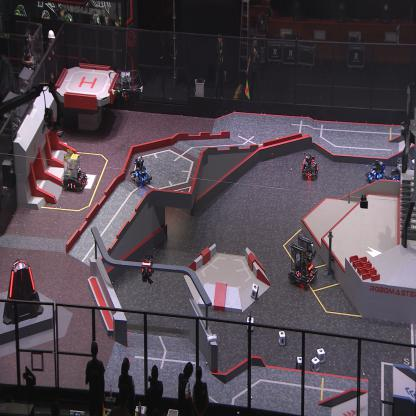car: (288, 232, 318, 288), (62, 148, 88, 192), (386, 151, 412, 187), (130, 154, 154, 186), (300, 151, 318, 182), (366, 158, 386, 184)
